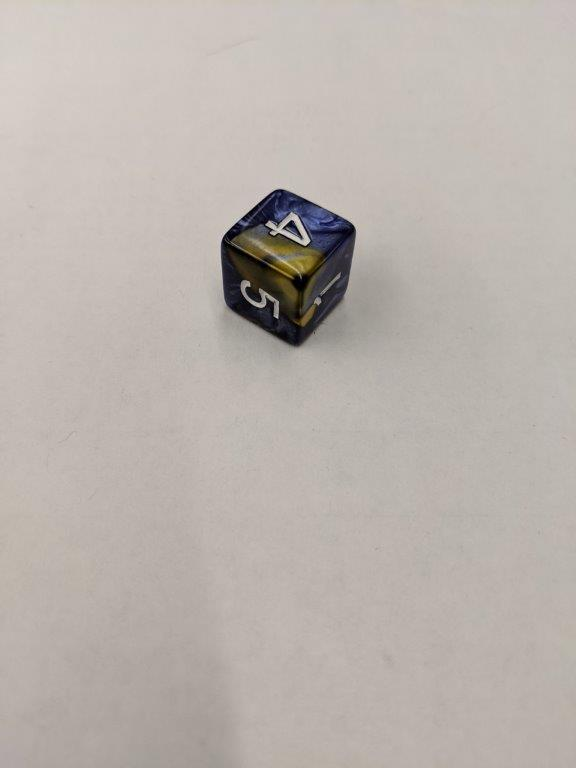d6-4: (219, 189, 356, 352)
